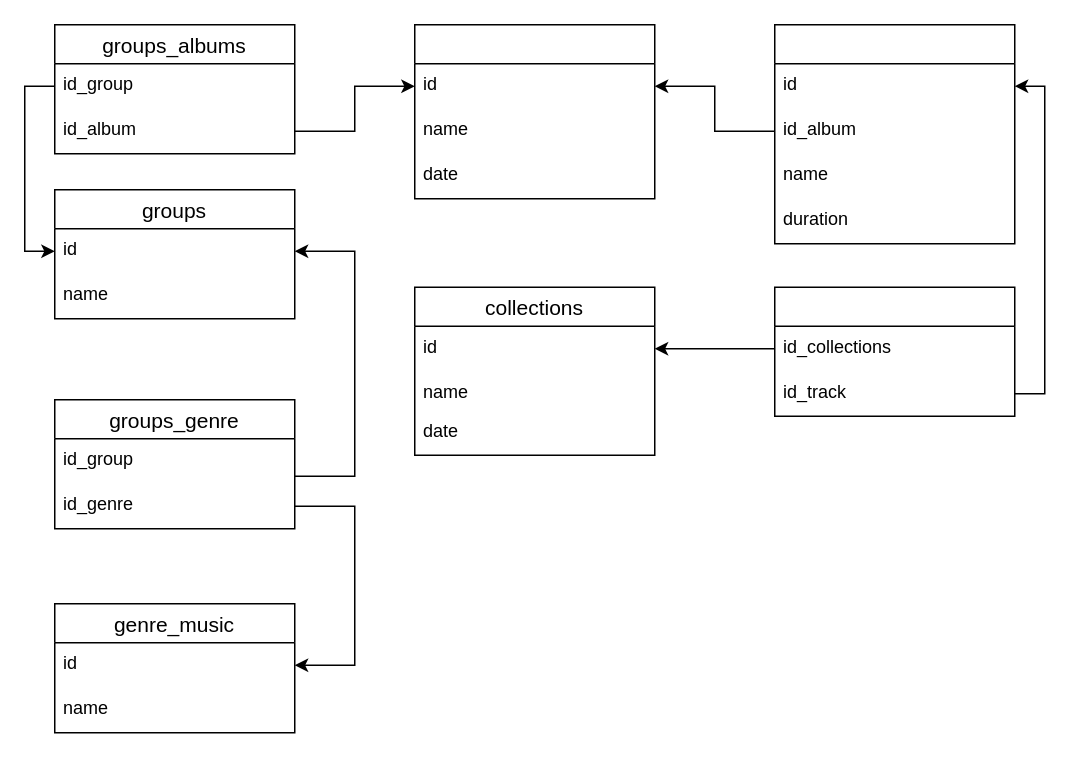
This 1070x758 diagram has some shape labels left out. The box of each missing label's shape, as (x1, y1, x2, y2) in pixels:
albums: (413, 23, 655, 199)
track_collections: (773, 286, 1015, 416)
track_list: (773, 23, 1015, 244)
